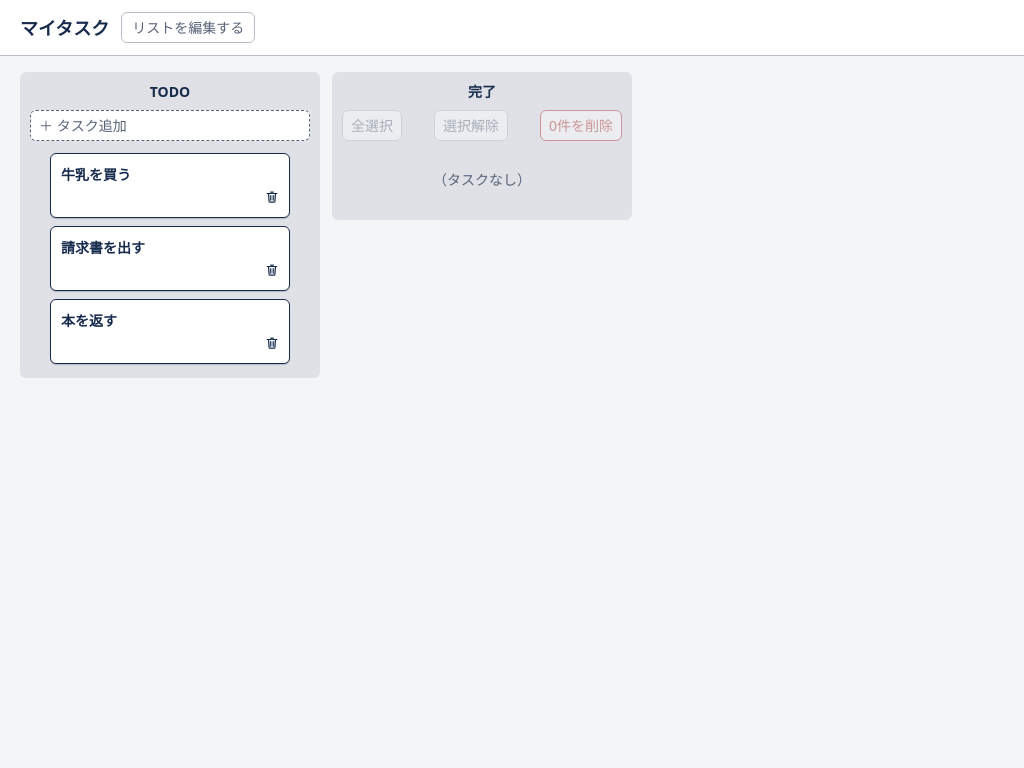
Test: リストの追加（F-02） › 追加に失敗したら、足した列が消える
Expected: the heading "牛乳を買う" is shown, [61, 165, 131, 184]
Click the button "リストを編集する".
click(188, 28)  # box [121, 12, 255, 43]
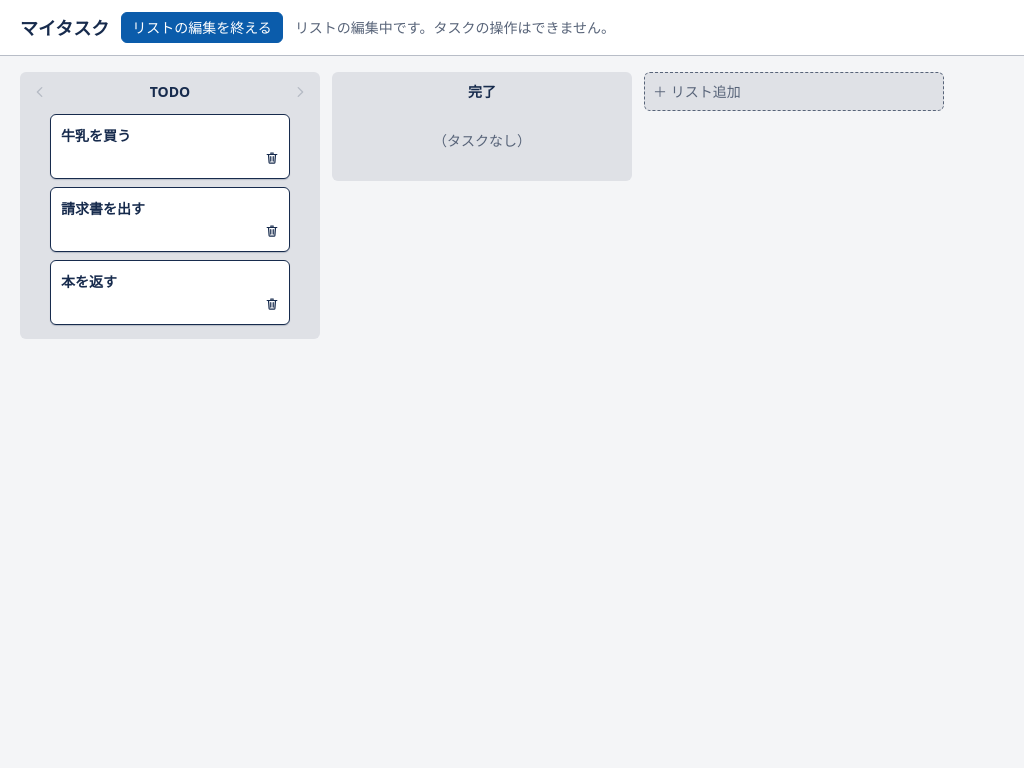
Click the button "＋ リスト追加".
click(697, 92)  # box [644, 72, 944, 111]
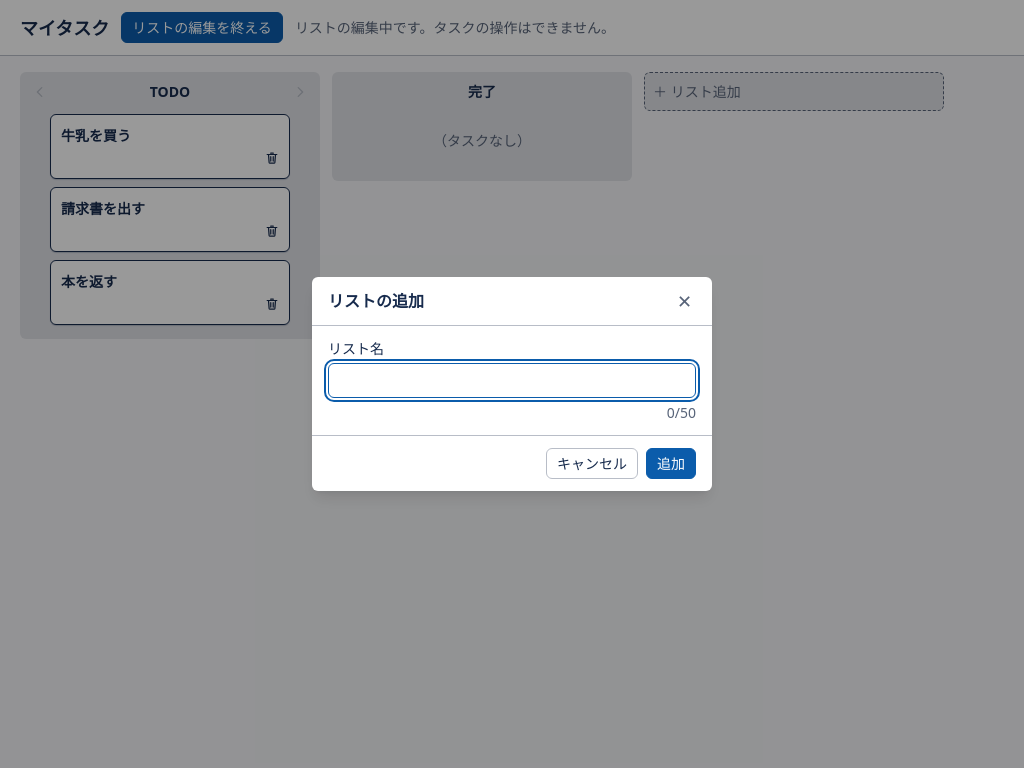
Type "設計" into the field labelled "リスト名".
click(512, 380); type("設計")  # box [328, 363, 696, 398]
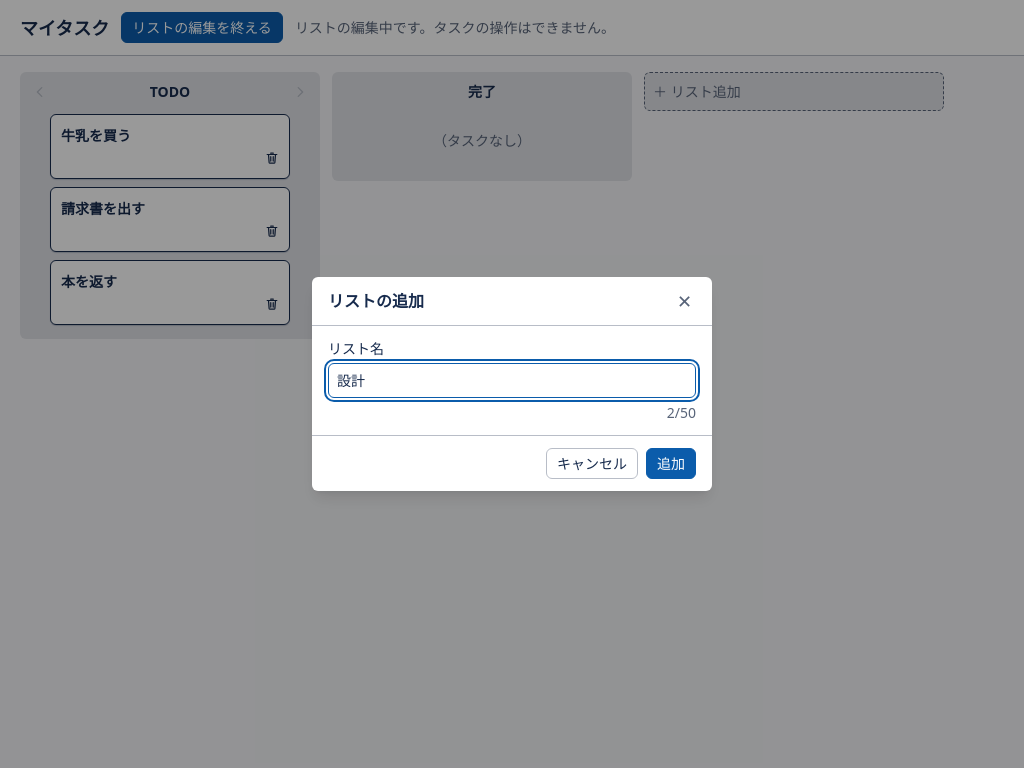
Click the button "追加".
click(671, 464)  # box [646, 448, 696, 479]
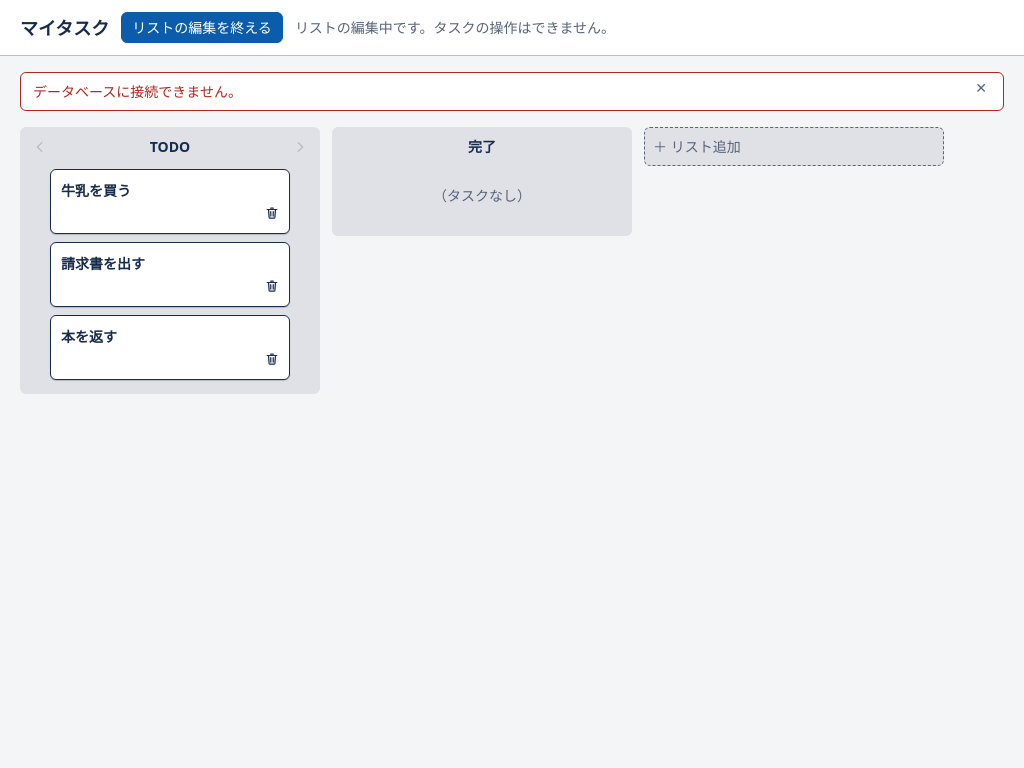
Expected: the message "データベースに接続できません。 ✕" is shown, [20, 72, 1004, 111]
